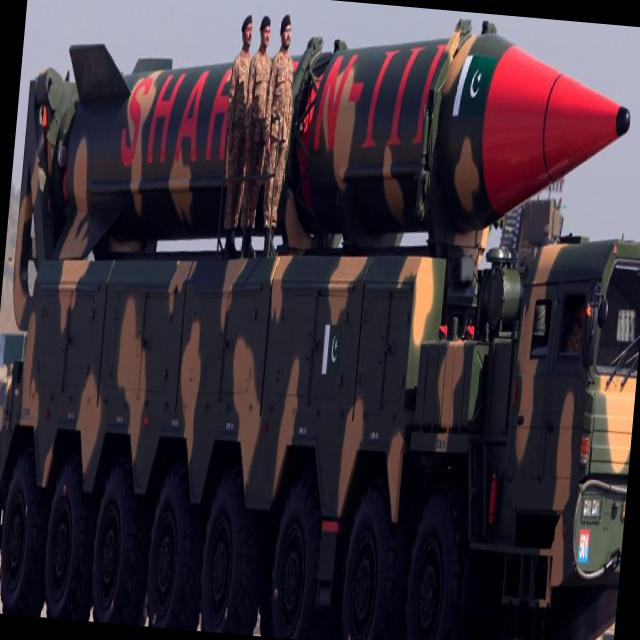rocket: (9, 11, 637, 297)
